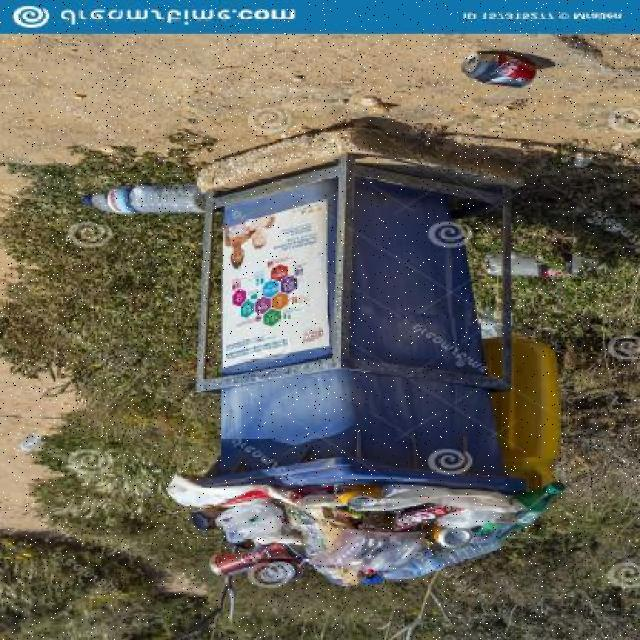garbage container: (168, 159, 510, 508)
